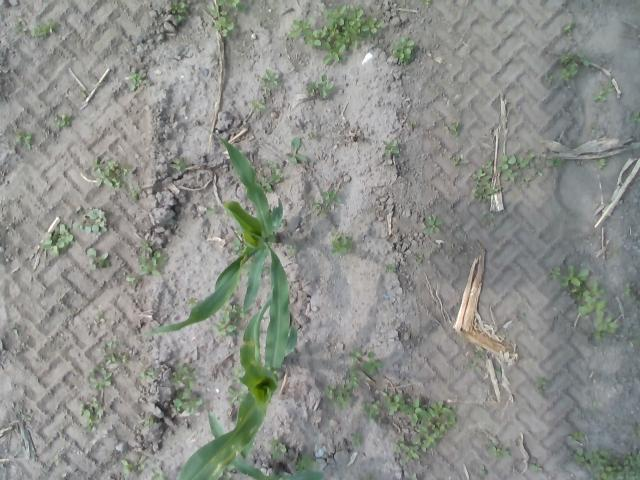Maize: (134, 127, 292, 368), (174, 286, 298, 480), (207, 410, 325, 480)
Weeds: (361, 392, 458, 464), (288, 5, 387, 70), (548, 264, 618, 342), (326, 345, 384, 411), (566, 430, 640, 480), (498, 147, 564, 188), (85, 338, 129, 390), (170, 360, 206, 414), (93, 155, 138, 191), (209, 0, 250, 38), (135, 236, 169, 278), (470, 158, 502, 200), (39, 222, 74, 258), (74, 202, 111, 234), (213, 303, 246, 338), (80, 396, 106, 434), (258, 159, 286, 194), (312, 188, 342, 219), (559, 51, 590, 80), (329, 228, 355, 258), (307, 73, 333, 101), (286, 138, 310, 166), (394, 36, 416, 66), (31, 17, 60, 39), (167, 0, 191, 26), (86, 247, 112, 271), (419, 214, 444, 236), (486, 439, 512, 460), (121, 454, 148, 474), (126, 70, 150, 92), (258, 70, 282, 92), (594, 81, 616, 103), (18, 128, 36, 152), (268, 438, 289, 458), (296, 453, 318, 472), (171, 156, 194, 174), (54, 111, 76, 128), (382, 138, 401, 157), (620, 281, 638, 301), (227, 386, 246, 404), (229, 364, 246, 384), (248, 98, 269, 113), (148, 467, 171, 480), (444, 122, 462, 138), (481, 211, 496, 230), (14, 16, 28, 36), (8, 322, 24, 338), (351, 426, 363, 446), (137, 368, 156, 380), (122, 272, 138, 286), (449, 152, 462, 169), (628, 330, 640, 347), (564, 21, 577, 36), (286, 241, 298, 257), (232, 238, 244, 254), (94, 312, 108, 325), (468, 360, 482, 372), (610, 246, 624, 258), (142, 416, 158, 426), (129, 191, 142, 203), (448, 242, 462, 253), (383, 262, 398, 272), (52, 454, 64, 466), (516, 312, 528, 324), (596, 158, 608, 170), (308, 130, 322, 140), (536, 377, 547, 389), (205, 206, 218, 216), (632, 422, 640, 438), (408, 119, 418, 131), (412, 252, 424, 262), (544, 74, 556, 84), (529, 463, 543, 471), (357, 473, 373, 480), (80, 88, 90, 99), (475, 348, 485, 359), (631, 111, 640, 123), (454, 218, 464, 228), (590, 123, 598, 134), (188, 297, 197, 306), (479, 465, 486, 475), (410, 473, 420, 480), (426, 0, 432, 10), (262, 438, 269, 446), (496, 370, 502, 376)
